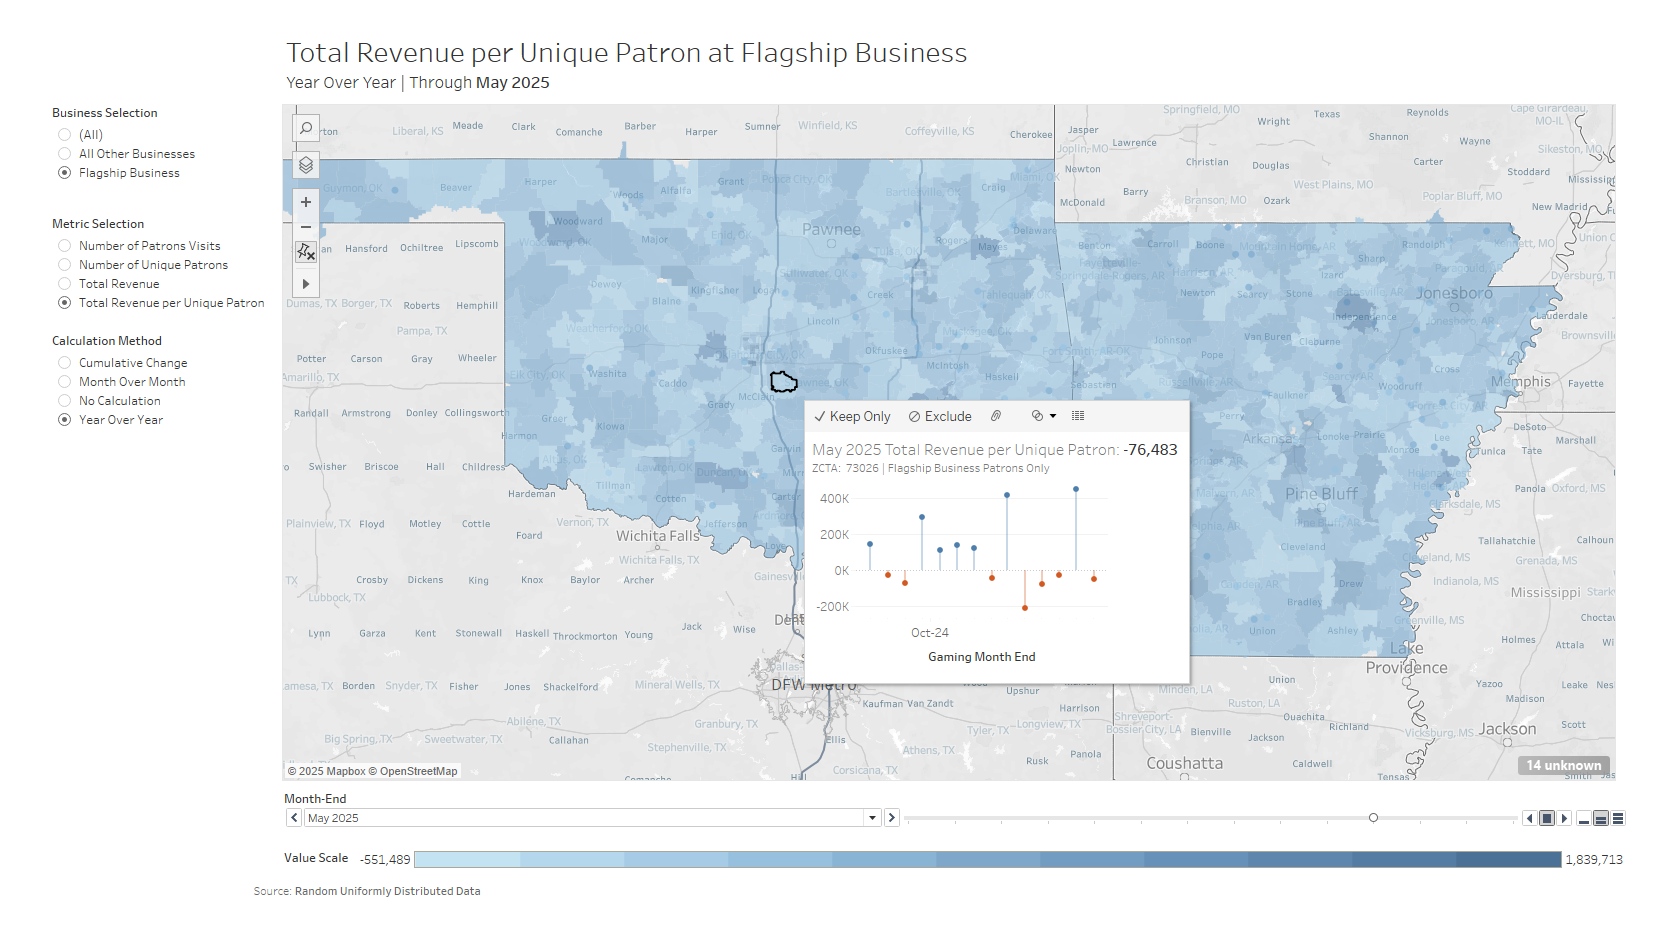

The dashboard page shown, as its layout file describes it:
{"tool":"tableau","page":{"name":"Dashboard Map","canvas":[1600,900],"ordinal":0},"visuals":[{"type":"blank","box":[8,8,232,77]},{"type":"worksheet","title":"Map","mark":"Automatic","box":[240,8,1352,763]},{"type":"filter","title":"Map","param":"[federated.1atp5sv15v3jza1d6jdue160i6nr].[none:SOURCE_PROP_GROUP:nk]","box":[8,85,232,111]},{"type":"filter","title":"Map","param":"[federated.1atp5sv15v3jza1d6jdue160i6nr].[none:metric:nk]","box":[8,196,232,117]},{"type":"filter","title":"Map","param":"[federated.1atp5sv15v3jza1d6jdue160i6nr].[none:calculation:nk]","box":[8,313,232,272]},{"type":"blank","box":[8,585,232,275]},{"type":"currpage","title":"Map","box":[240,771,1352,57]},{"type":"legend","title":"Map","param":"[federated.1atp5sv15v3jza1d6jdue160i6nr].[sum:value:qk]","box":[240,828,1352,32]},{"type":"blank","box":[8,860,199,32]},{"type":"text","box":[207,860,1385,32]}]}

Visuals, with their boxes in screenshot pixels (x1, y1, x2, y2), scaled from the page's 1600x900 canvas onto the 1664x927 screenshot:
blank: bbox(8, 8, 250, 88)
"Map" worksheet: bbox(250, 8, 1656, 794)
"Map" filter: bbox(8, 88, 250, 202)
"Map" filter: bbox(8, 202, 250, 322)
"Map" filter: bbox(8, 322, 250, 603)
blank: bbox(8, 603, 250, 886)
"Map" currpage: bbox(250, 794, 1656, 853)
"Map" legend: bbox(250, 853, 1656, 886)
blank: bbox(8, 886, 215, 919)
text: bbox(215, 886, 1656, 919)
